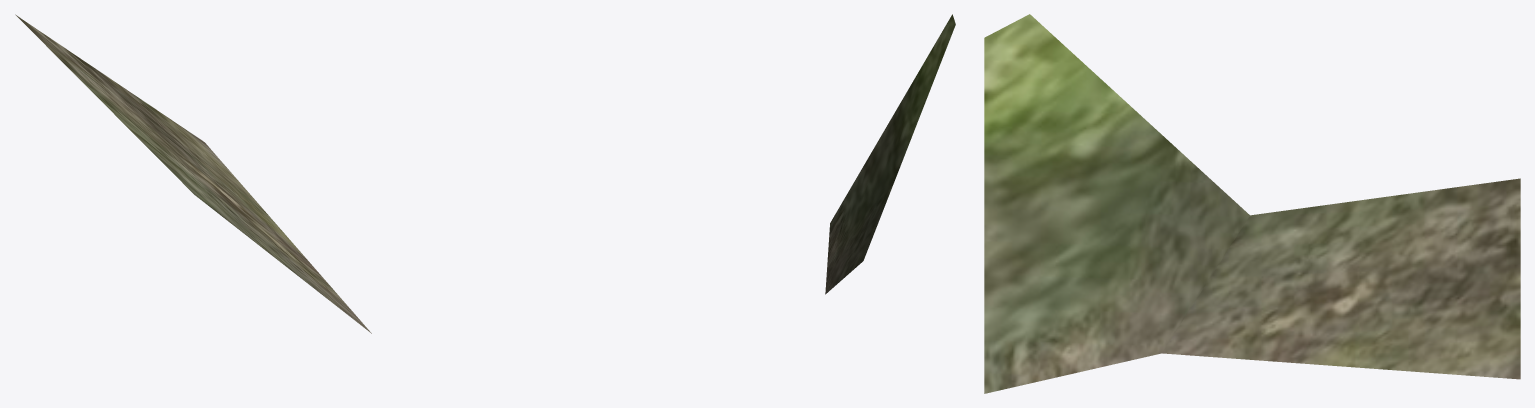
The picture shows the model from 3 angles, left to right: view 1: azimuth 30°, elevation 25°; view 2: azimuth 150°, elevation 25°; view 3: azimuth 270°, elevation 25°; orthographic projection. The views are drawn at different scales.
Bounding box in the file's own units: 1.1 × 1.79 × 2.95.
1 material, 1 textured.
